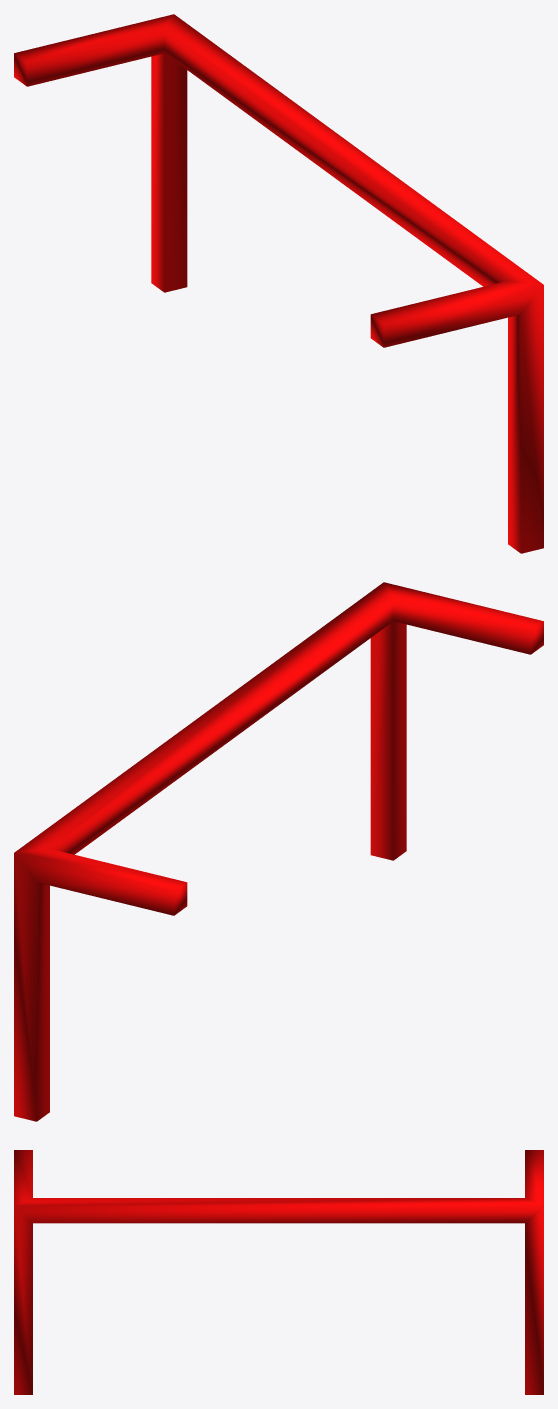
The model's file is Goalsopponentback.001.dae.
The picture shows the model from 3 angles, top to bottom: view 1: azimuth 30°, elevation 25°; view 2: azimuth 150°, elevation 25°; view 3: azimuth 270°, elevation 25°; orthographic projection. The views are drawn at different scales.
Visible parts, largest first — view 1: visual_0_field_1_7; view 2: visual_0_field_1_7; view 3: visual_0_field_1_7.
Part boxes in pixels (x1,y1,x2,y2): visual_0_field_1_7: (14, 14, 543, 553); visual_0_field_1_7: (14, 582, 543, 1121); visual_0_field_1_7: (14, 1150, 543, 1394).
Bounding box in the file's own units: 0.7 × 2.8 × 1.1.
